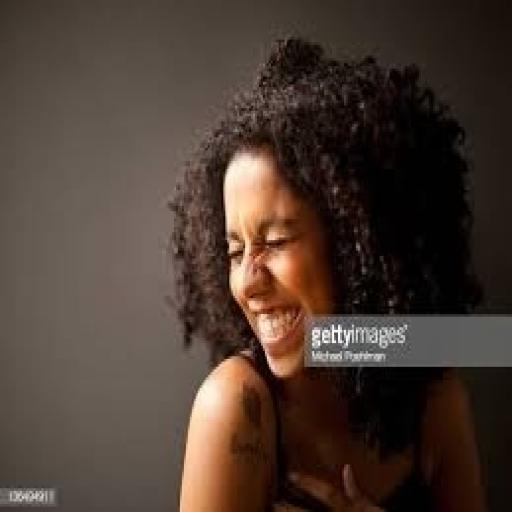laughing: (152, 32, 492, 509)
